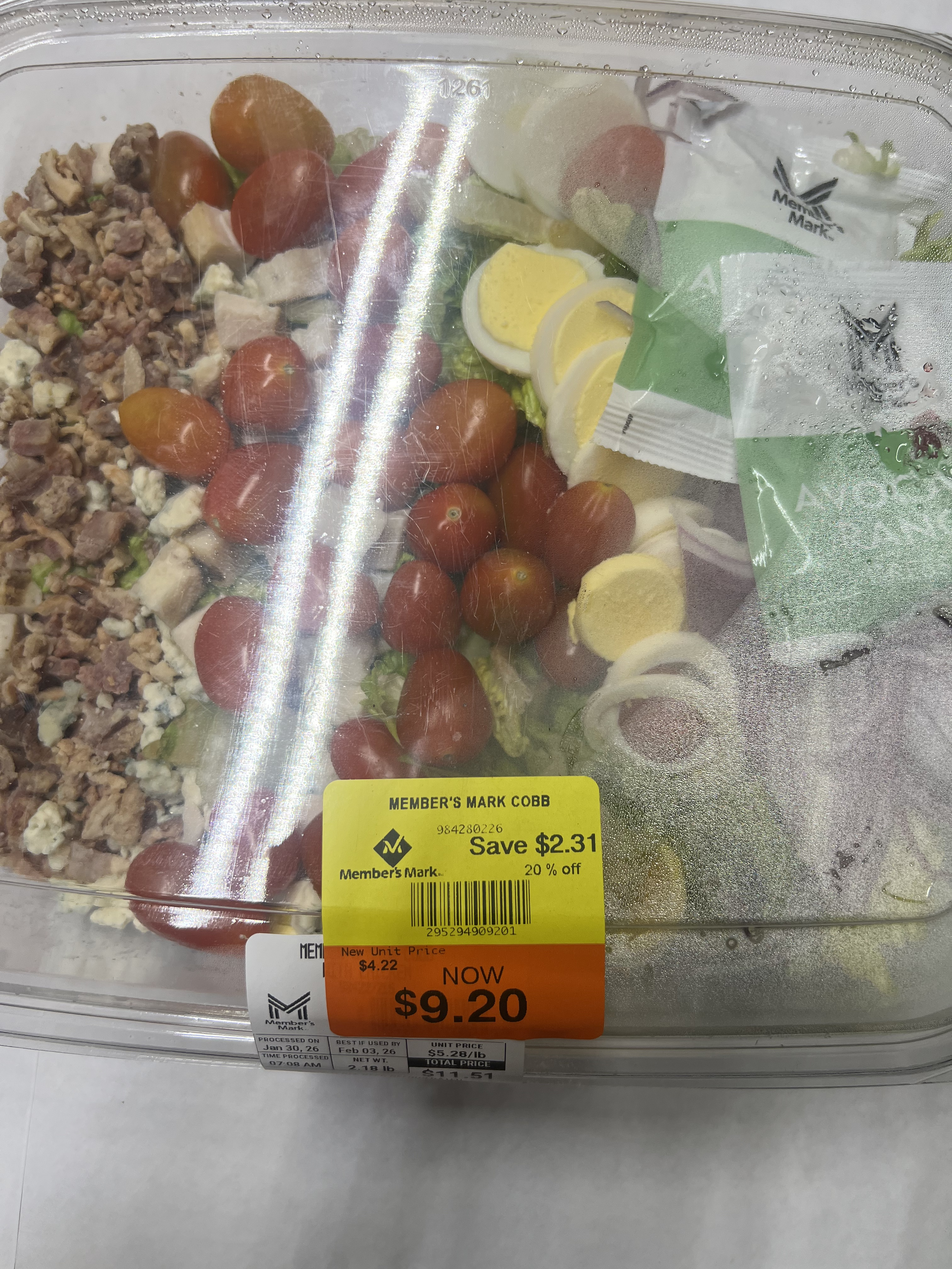produce: (0, 68, 952, 1087)
